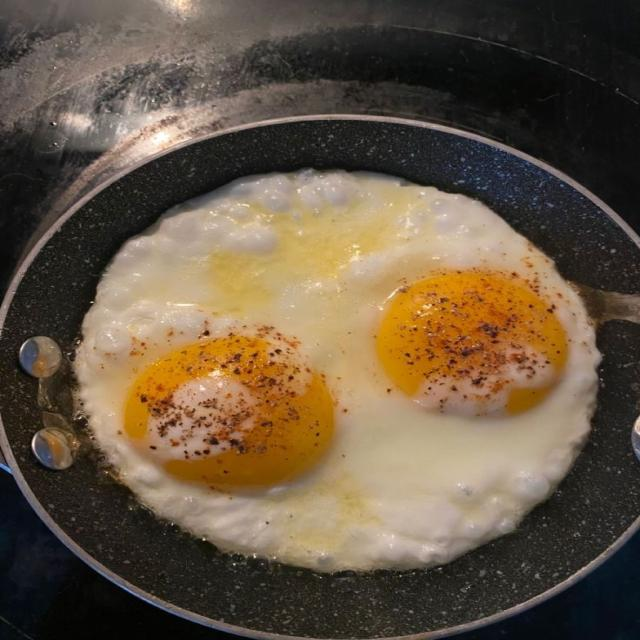fryed egg: (75, 171, 599, 570)
